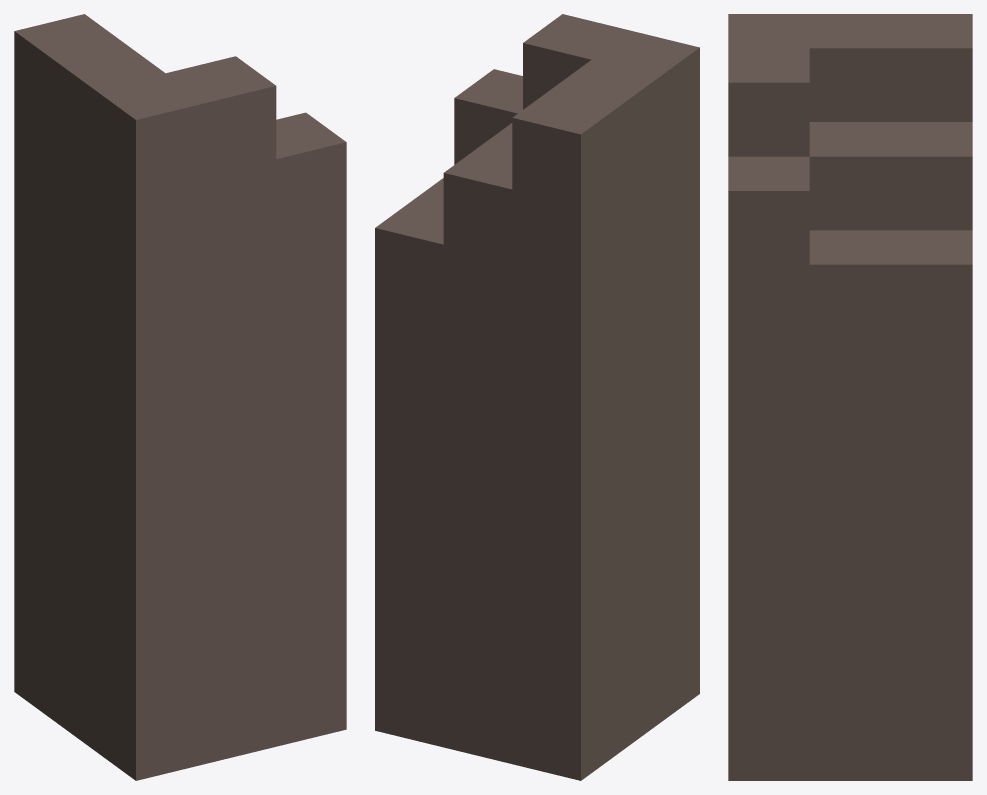
The model's file is sheep__leg_fr.glb.
The picture shows the model from 3 angles, left to right: view 1: azimuth 30°, elevation 25°; view 2: azimuth 150°, elevation 25°; view 3: azimuth 270°, elevation 25°; orthographic projection. The views are drawn at different scales.
Parts seen in each view (by area): view 1: sheep__leg_fr; view 2: sheep__leg_fr; view 3: sheep__leg_fr.
Part boxes in pixels (x1,y1,x2,y2): sheep__leg_fr: [14, 14, 346, 780]; sheep__leg_fr: [375, 14, 699, 780]; sheep__leg_fr: [728, 14, 972, 780].
Size of the model in its own units: 0.3 by 0.9 by 0.3.
Materials: 1 (1 with a texture image).
